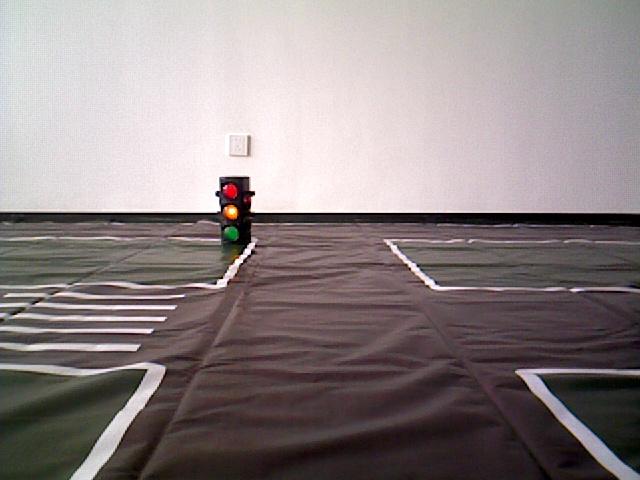yellow: (219, 178, 248, 245)
